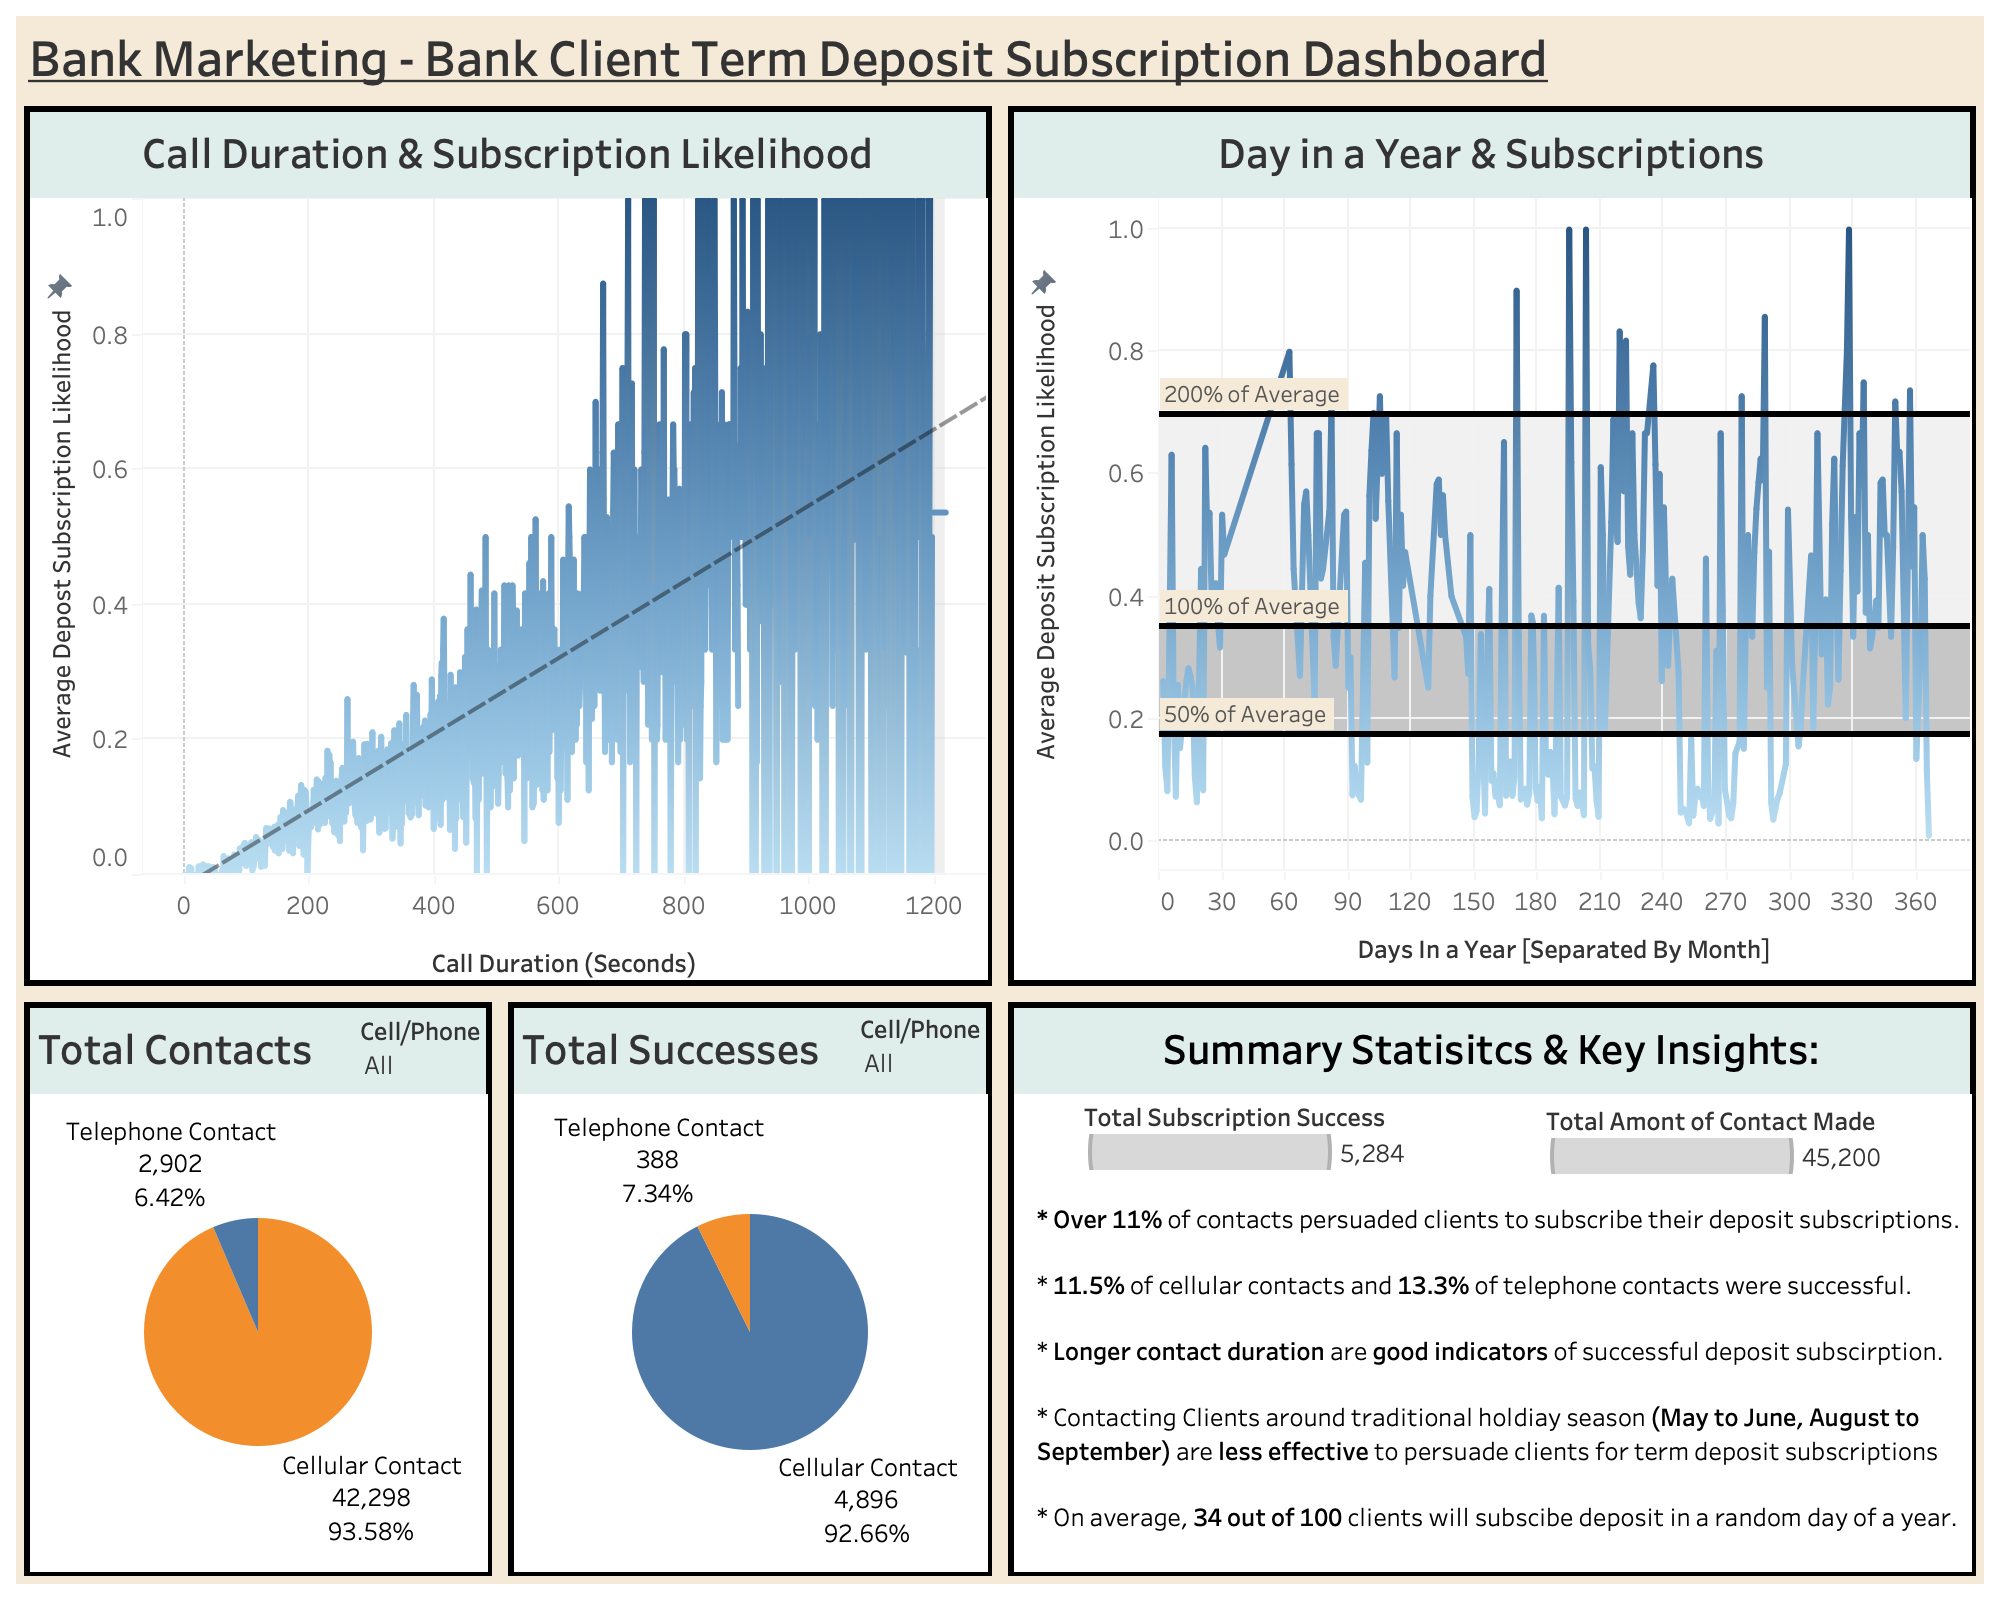

What the dashboard file says about the page in this screenshot:
{"tool":"tableau","page":{"name":"Dashboard 2","canvas":[1000,800],"ordinal":1},"visuals":[{"type":"title","box":[8,8,984,41]},{"type":"worksheet","title":"Sheet 1 (2)","mark":"Line","rows":["y"],"cols":["duration"],"box":[8,49,492,448.2]},{"type":"worksheet","title":"Sheet 5","mark":"Automatic","rows":["y"],"cols":["days_in_year"],"box":[500,49,492,448.2]},{"type":"worksheet","title":"Sheet 4","mark":"Pie","box":[8,497.2,241.9,294.8]},{"type":"worksheet","title":"Sheet 4 (4)","mark":"Pie","box":[249.9,497.2,250.1,294.8]},{"type":"worksheet","title":"Sheet 7","mark":"Automatic","cols":["Calculation_3201848295960977430"],"box":[500,497.2,492,294.8]},{"type":"filter","title":"Sheet 4 (4)","param":"[federated.18ksb6u047ocbd18k8paa0ni0f6r].[none:Calculation_3201848295919308821:n","box":[430,505,60,38]},{"type":"filter","title":"Sheet 4","param":"[federated.18ksb6u047ocbd18k8paa0ni0f6r].[none:Calculation_3201848295919308821:n","box":[180,506,62,40]},{"type":"legend","title":"Sheet 4 (4)","param":"[federated.18ksb6u047ocbd18k8paa0ni0f6r].[sum:Calculation_3201848295918800916:qk","box":[541,548,186,44]},{"type":"legend","title":"Sheet 4","param":"[federated.18ksb6u047ocbd18k8paa0ni0f6r].[usr:Calculation_3201848295880388618:qk","box":[772,550,180,41]},{"type":"text","box":[516,593,467,186]}]}

Visuals, with their boxes in screenshot pixels (x1, y1, x2, y2), scaled from the page's 1000x800 canvas onto the 2000x1600 screenshot:
title: bbox(16, 16, 1984, 98)
"Sheet 1 (2)" worksheet (Line marks): bbox(16, 98, 1000, 994)
"Sheet 5" worksheet: bbox(1000, 98, 1984, 994)
"Sheet 4" worksheet (Pie marks): bbox(16, 994, 500, 1584)
"Sheet 4 (4)" worksheet (Pie marks): bbox(500, 994, 1000, 1584)
"Sheet 7" worksheet: bbox(1000, 994, 1984, 1584)
"Sheet 4 (4)" filter: bbox(860, 1010, 980, 1086)
"Sheet 4" filter: bbox(360, 1012, 484, 1092)
"Sheet 4 (4)" legend: bbox(1082, 1096, 1454, 1184)
"Sheet 4" legend: bbox(1544, 1100, 1904, 1182)
text: bbox(1032, 1186, 1966, 1558)
